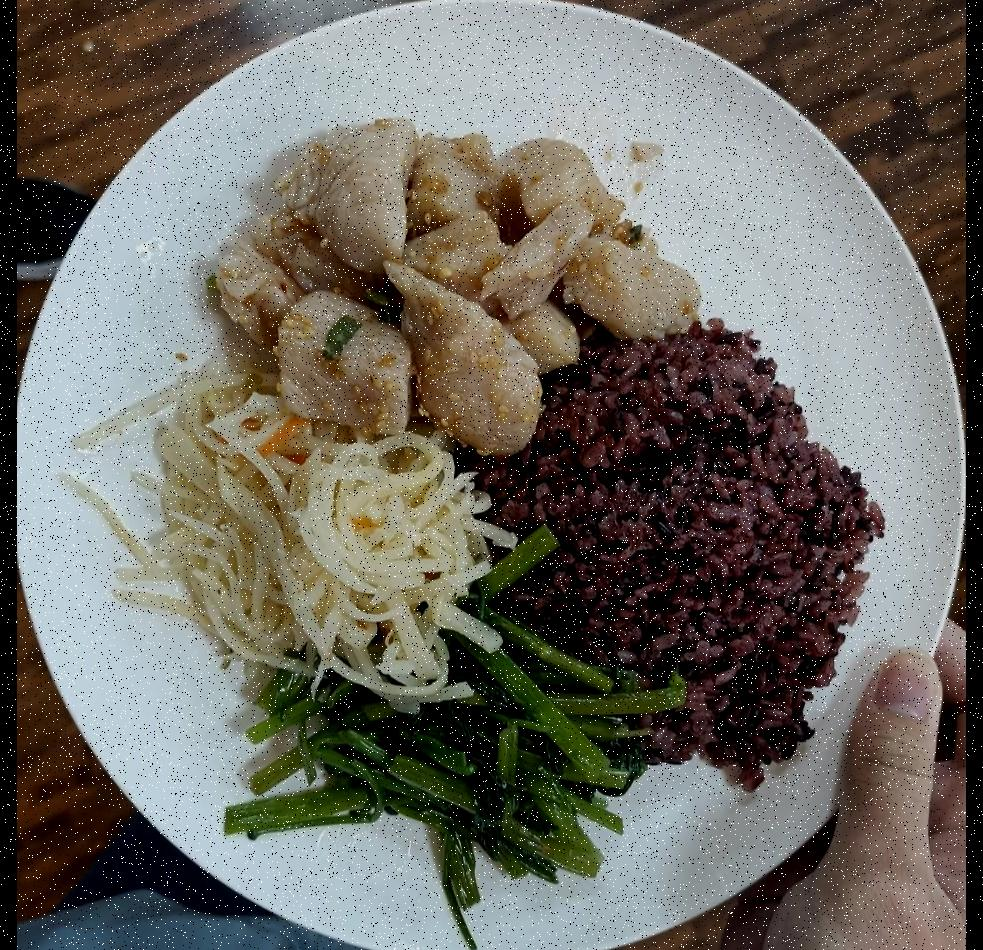plate: (16, 0, 954, 950)
purple rice: (506, 328, 878, 768)
scallion chicken: (217, 121, 696, 443)
side dish: (222, 622, 642, 901), (156, 393, 492, 698)
